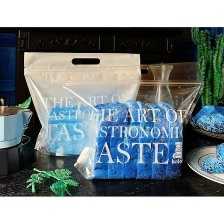snack: (52, 55, 209, 184), (15, 45, 145, 160)
